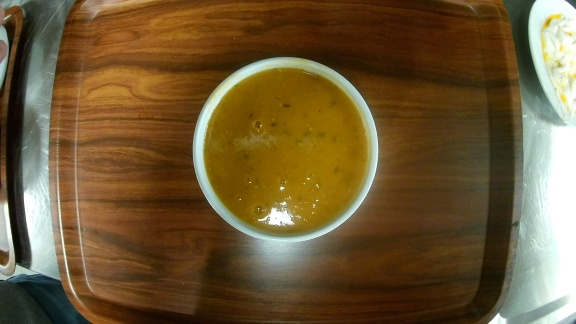ezogelin: (189, 56, 381, 243)
